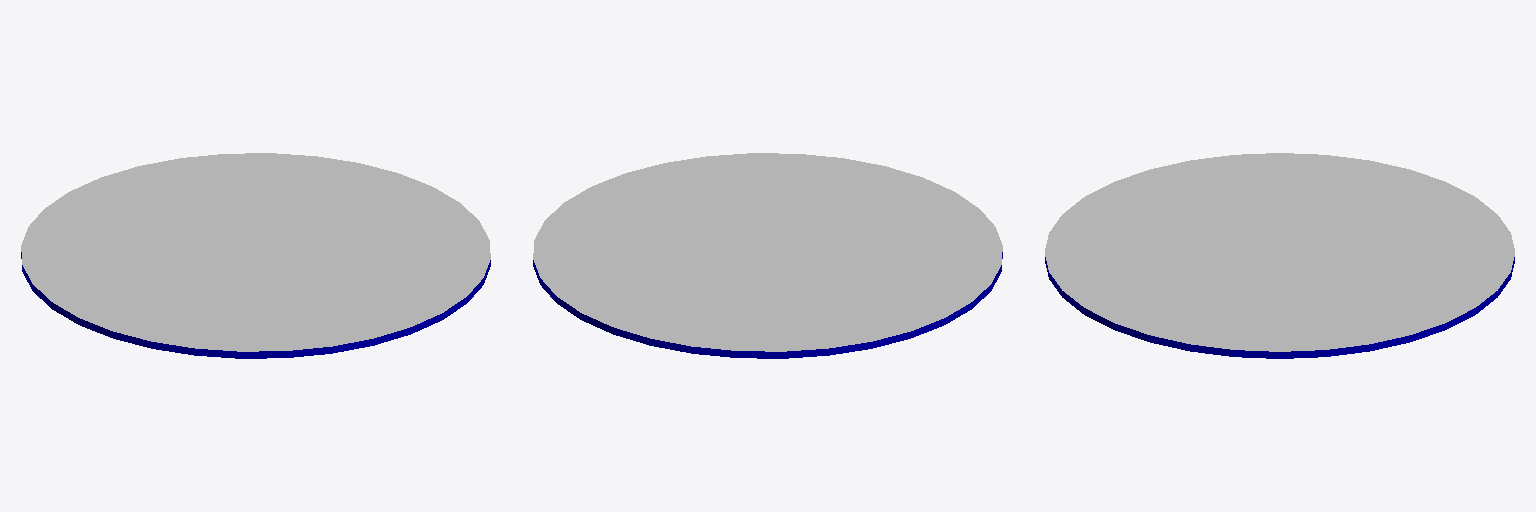
Rendered from board.obj.
The picture shows the model from 3 angles: view 1: azimuth 30°, elevation 25°; view 2: azimuth 150°, elevation 25°; view 3: azimuth 270°, elevation 25°; orthographic projection.
Parts seen in each view (by area): view 1: board; view 2: board; view 3: board.
Boxes of the visible parts, x1,y1,x2,y2 form: board: [21, 153, 490, 358]; board: [533, 153, 1002, 358]; board: [1045, 153, 1514, 358].
Bounding box in the file's own units: 30 × 0.5 × 30.